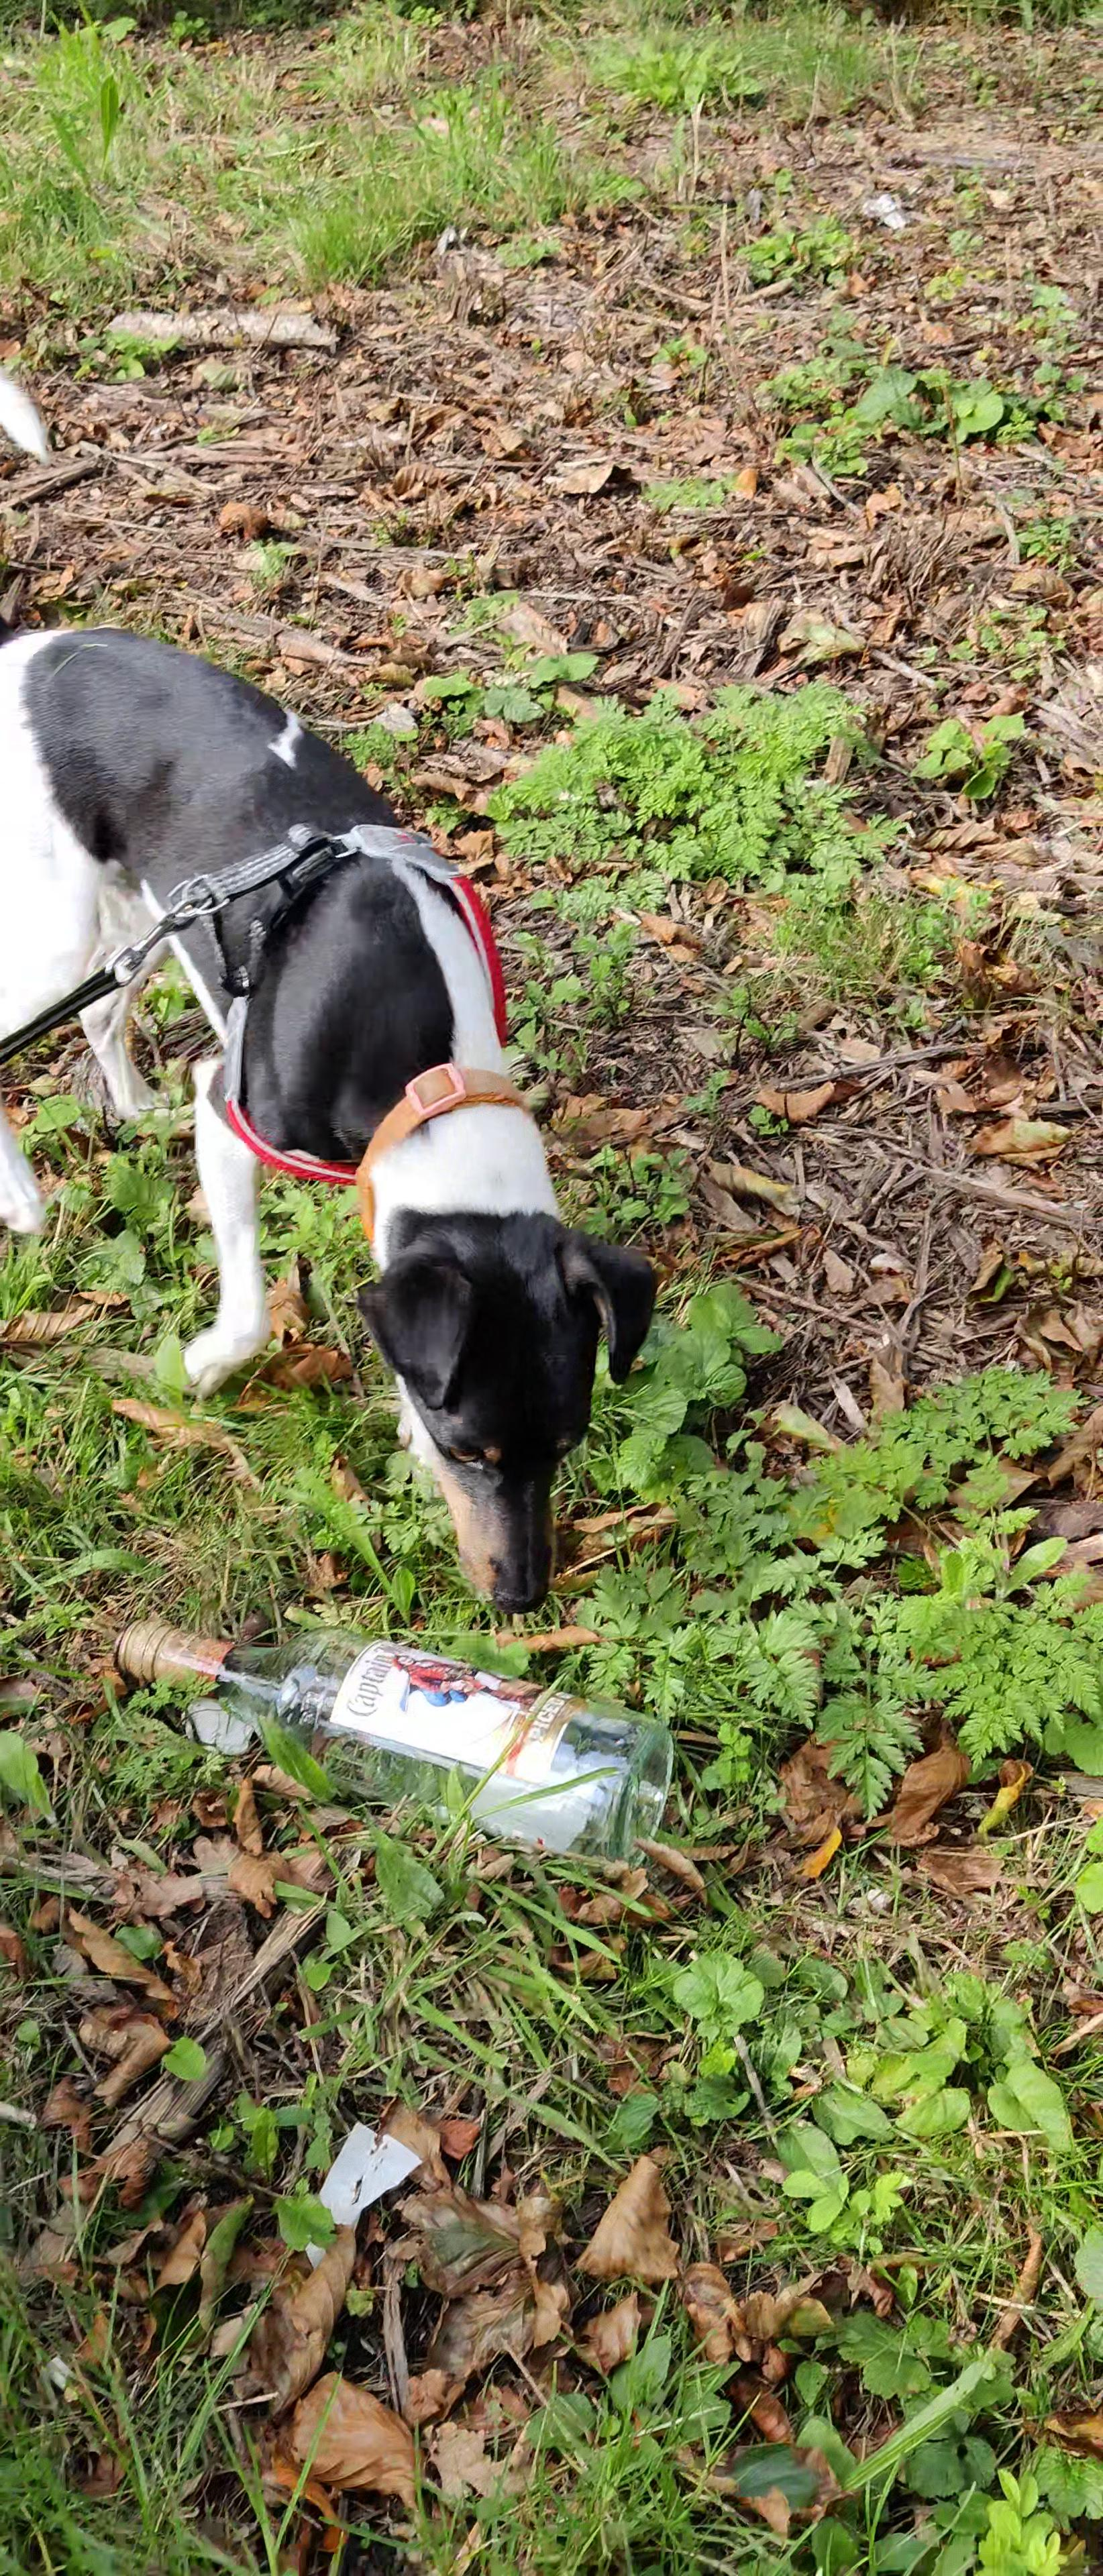Dog: (0, 333, 666, 1613)
